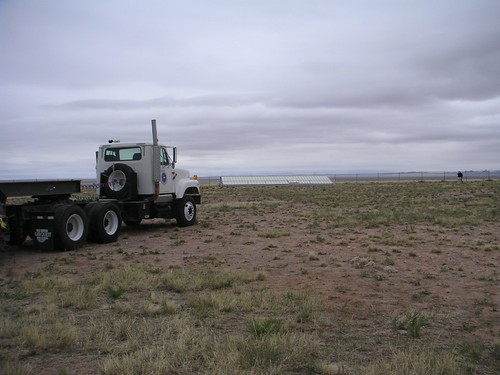sky: (8, 1, 500, 170)
truck: (3, 142, 212, 255)
